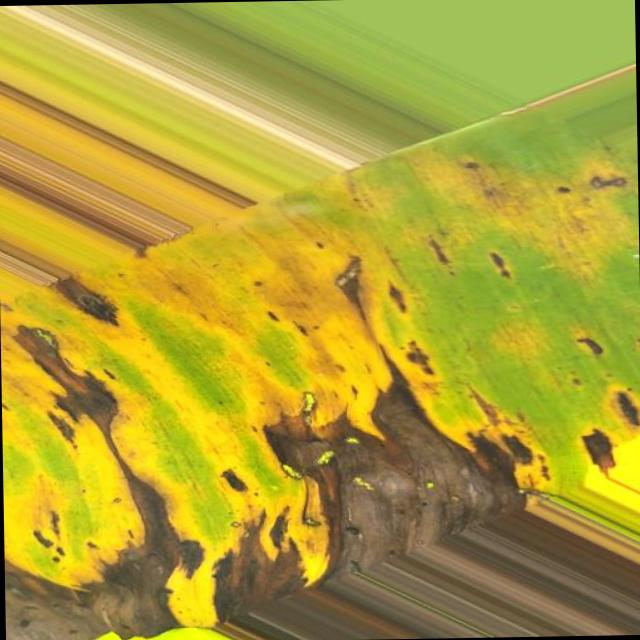Banana_Black_Sigatoka: (268, 197, 638, 554), (0, 260, 261, 640)
